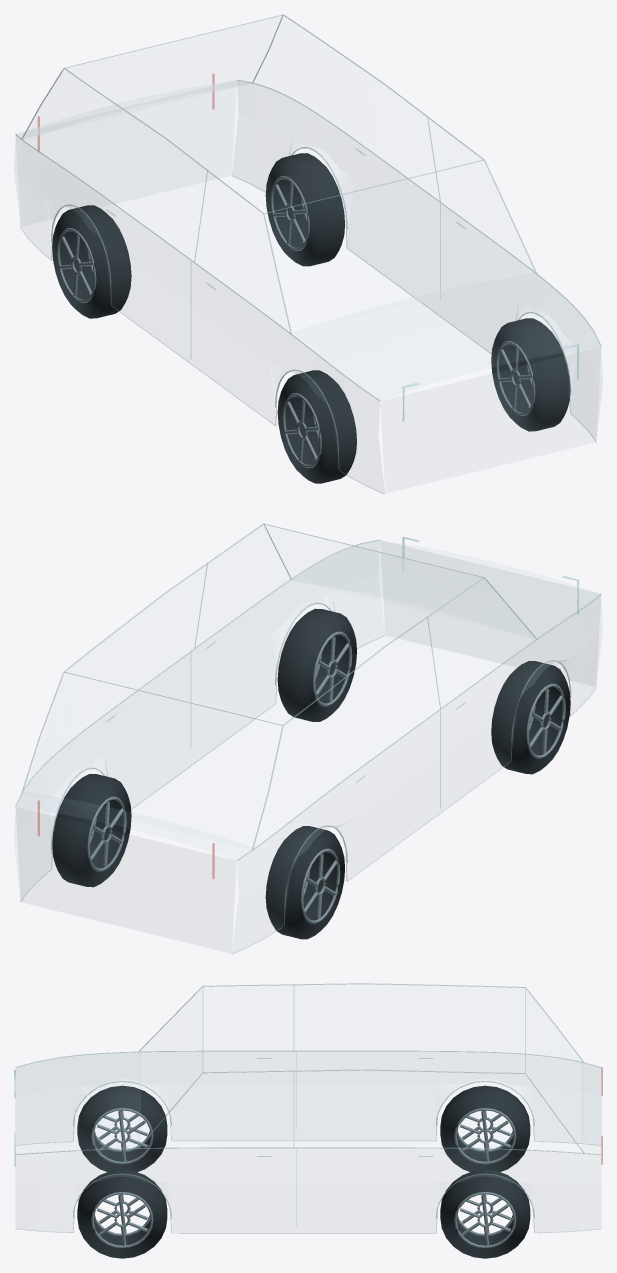
File: kia_ev9.glb
3 views of the same model, one above another, from view 1: azimuth 30°, elevation 25°; view 2: azimuth 150°, elevation 25°; view 3: azimuth 270°, elevation 25° (orthographic). The views are drawn at different scales.
Visible parts, largest first — view 1: shell_body, shell_tyre_right_front, shell_tyre_right_rear, shell_tyre_left_rear, shell_tyre_left_front, shell_contours, shell_details, shell_rim_right_front, shell_rim_left_front, shell_rim_right_rear, shell_rim_left_rear; view 2: shell_body, shell_tyre_right_front, shell_tyre_right_rear, shell_tyre_left_rear, shell_tyre_left_front, shell_contours, shell_details, shell_rim_right_front, shell_rim_left_rear, shell_rim_left_front, shell_rim_right_rear; view 3: shell_body, shell_contours, shell_tyre_left_front, shell_tyre_left_rear, shell_tyre_right_rear, shell_tyre_right_front, shell_rim_right_rear, shell_rim_left_front, shell_rim_right_front, shell_rim_left_rear, shell_details.
Part boxes in pixels (bbox=[...]): shell_body: bbox=[16, 80, 600, 458]; shell_tyre_right_front: bbox=[277, 370, 356, 483]; shell_tyre_right_rear: bbox=[52, 205, 131, 318]; shell_tyre_left_rear: bbox=[265, 153, 344, 266]; shell_tyre_left_front: bbox=[491, 318, 570, 431]; shell_contours: bbox=[15, 14, 601, 451]; shell_details: bbox=[20, 117, 596, 494]; shell_rim_right_front: bbox=[282, 393, 321, 468]; shell_rim_left_front: bbox=[496, 341, 535, 415]; shell_rim_right_rear: bbox=[57, 228, 96, 302]; shell_rim_left_rear: bbox=[270, 176, 309, 250]; shell_body: bbox=[16, 540, 600, 918]; shell_tyre_right_front: bbox=[491, 661, 570, 774]; shell_tyre_right_rear: bbox=[265, 826, 344, 939]; shell_tyre_left_rear: bbox=[52, 774, 131, 887]; shell_tyre_left_front: bbox=[277, 608, 356, 721]; shell_contours: bbox=[15, 523, 601, 907]; shell_details: bbox=[20, 564, 596, 953]; shell_rim_right_front: bbox=[526, 683, 565, 758]; shell_rim_left_rear: bbox=[87, 796, 126, 871]; shell_rim_left_front: bbox=[313, 631, 352, 706]; shell_rim_right_rear: bbox=[301, 848, 340, 923]; shell_body: bbox=[15, 1052, 601, 1184]; shell_contours: bbox=[15, 983, 601, 1218]; shell_tyre_left_front: bbox=[77, 1169, 167, 1258]; shell_tyre_left_rear: bbox=[440, 1169, 530, 1258]; shell_tyre_right_rear: bbox=[440, 1085, 530, 1171]; shell_tyre_right_front: bbox=[77, 1085, 167, 1171]; shell_rim_right_rear: bbox=[454, 1108, 516, 1164]; shell_rim_left_front: bbox=[91, 1191, 153, 1248]; shell_rim_right_front: bbox=[91, 1108, 153, 1164]; shell_rim_left_rear: bbox=[454, 1191, 516, 1248]; shell_details: bbox=[16, 1058, 600, 1233].
Bounding box in the file's own units: 1.99 × 1.76 × 5.03.
